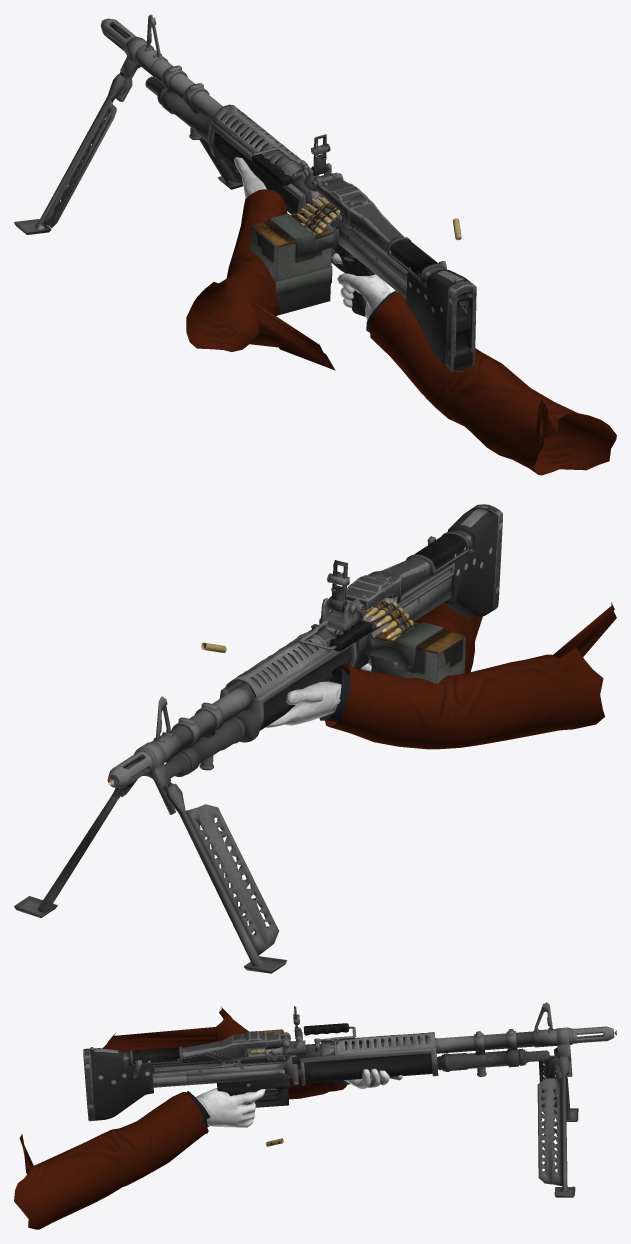
File: frame_29.obj
The picture shows the model from 3 angles, top to bottom: view 1: azimuth 30°, elevation 25°; view 2: azimuth 150°, elevation 25°; view 3: azimuth 270°, elevation 25°; orthographic projection. The views are drawn at different scales.
Visible parts, largest first — view 1: Mesh.005, PlayerModelMerged.001_PlayerModelMerged, Mesh.001; view 2: Mesh.005, PlayerModelMerged.001_PlayerModelMerged, Mesh.001; view 3: Mesh.005, PlayerModelMerged.001_PlayerModelMerged.
Part boxes in pixels (left/top/right/bottom): Mesh.005: left=14, top=14, right=476, bottom=371; PlayerModelMerged.001_PlayerModelMerged: left=186, top=157, right=616, bottom=475; Mesh.001: left=297, top=196, right=340, bottom=234; Mesh.005: left=14, top=504, right=502, bottom=973; PlayerModelMerged.001_PlayerModelMerged: left=266, top=602, right=616, bottom=749; Mesh.001: left=366, top=599, right=413, bottom=638; Mesh.005: left=83, top=1002, right=614, bottom=1197; PlayerModelMerged.001_PlayerModelMerged: left=14, top=1006, right=402, bottom=1229.
Bounding box in the file's own units: 0.9934 × 0.7436 × 2.16.
